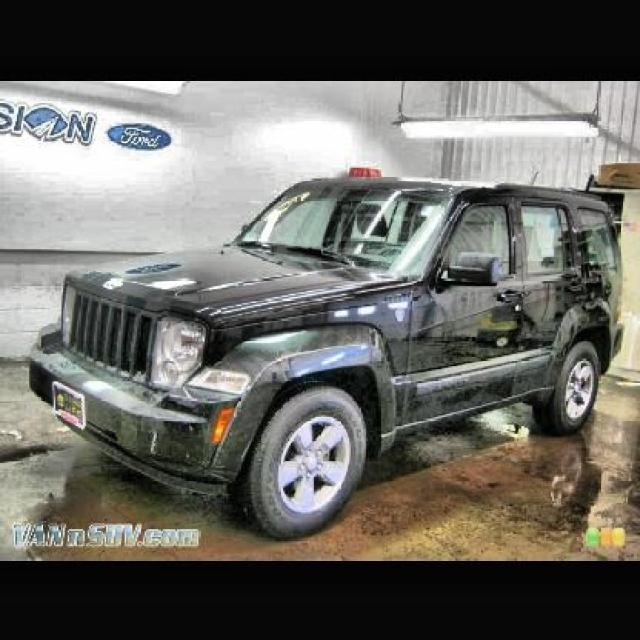black: (40, 158, 640, 496)
